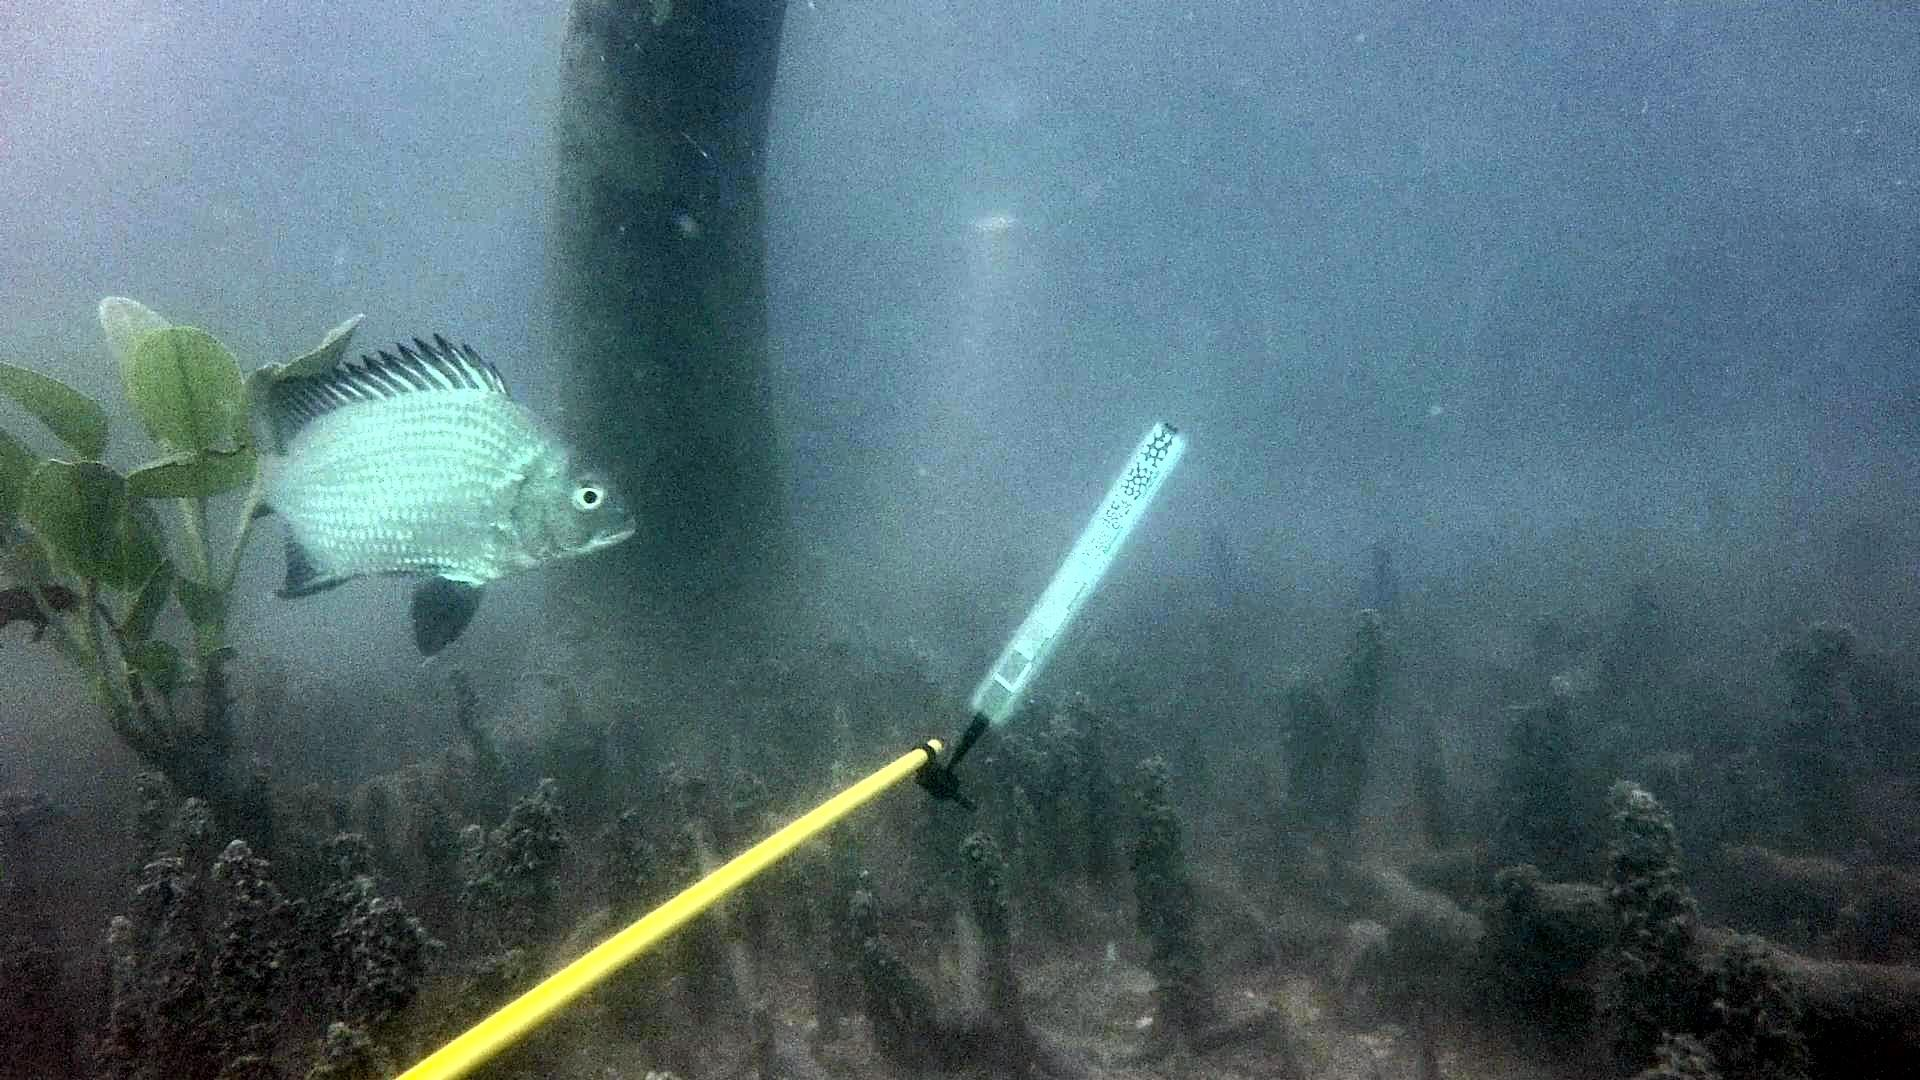acanthopagrus palmaris: (242, 329, 646, 671)
